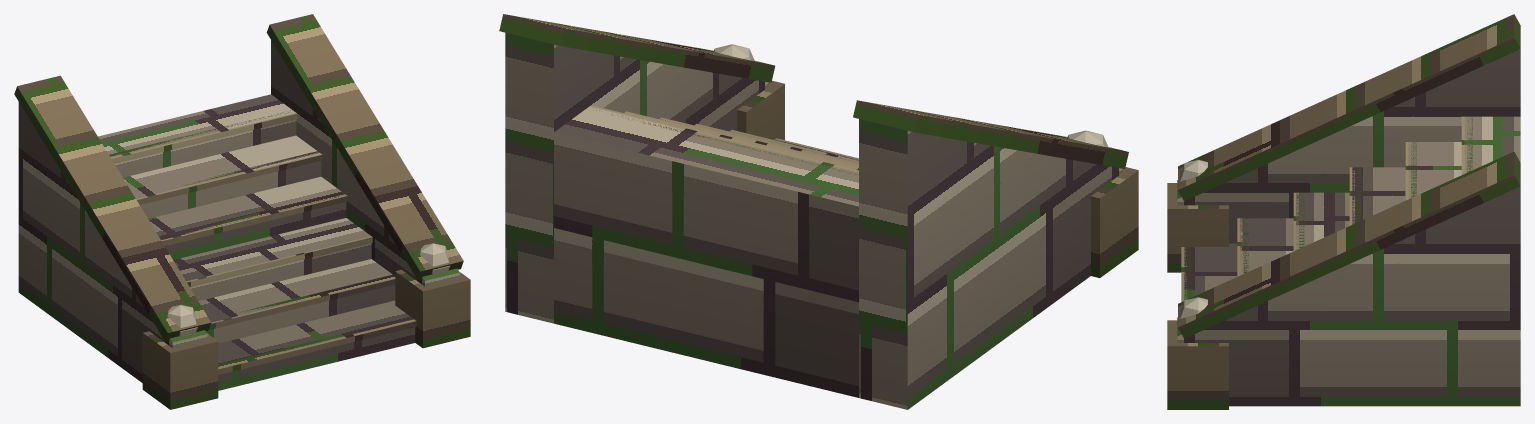
Rendered from scene_library_stair.glb.
3 views of the same model, side by side, from view 1: azimuth 30°, elevation 25°; view 2: azimuth 150°, elevation 25°; view 3: azimuth 270°, elevation 25° (orthographic). The views are drawn at different scales.
Parts seen in each view (by area): view 1: scene_library_stair; view 2: scene_library_stair; view 3: scene_library_stair.
Part boxes in pixels (x1,y1,x2,y2): scene_library_stair: (14,14,470,409); scene_library_stair: (499,14,1138,409); scene_library_stair: (1167,14,1520,409).
Bounding box in the file's own units: 2.76 × 1.84 × 2.52.
2 materials, 1 textured.
